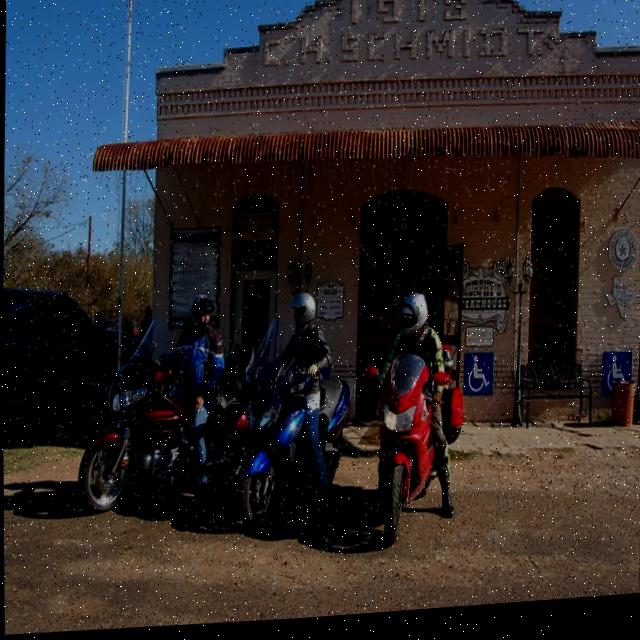car: (2, 265, 124, 433)
motorcycle: (76, 307, 245, 525), (220, 321, 356, 547), (369, 319, 459, 538)
